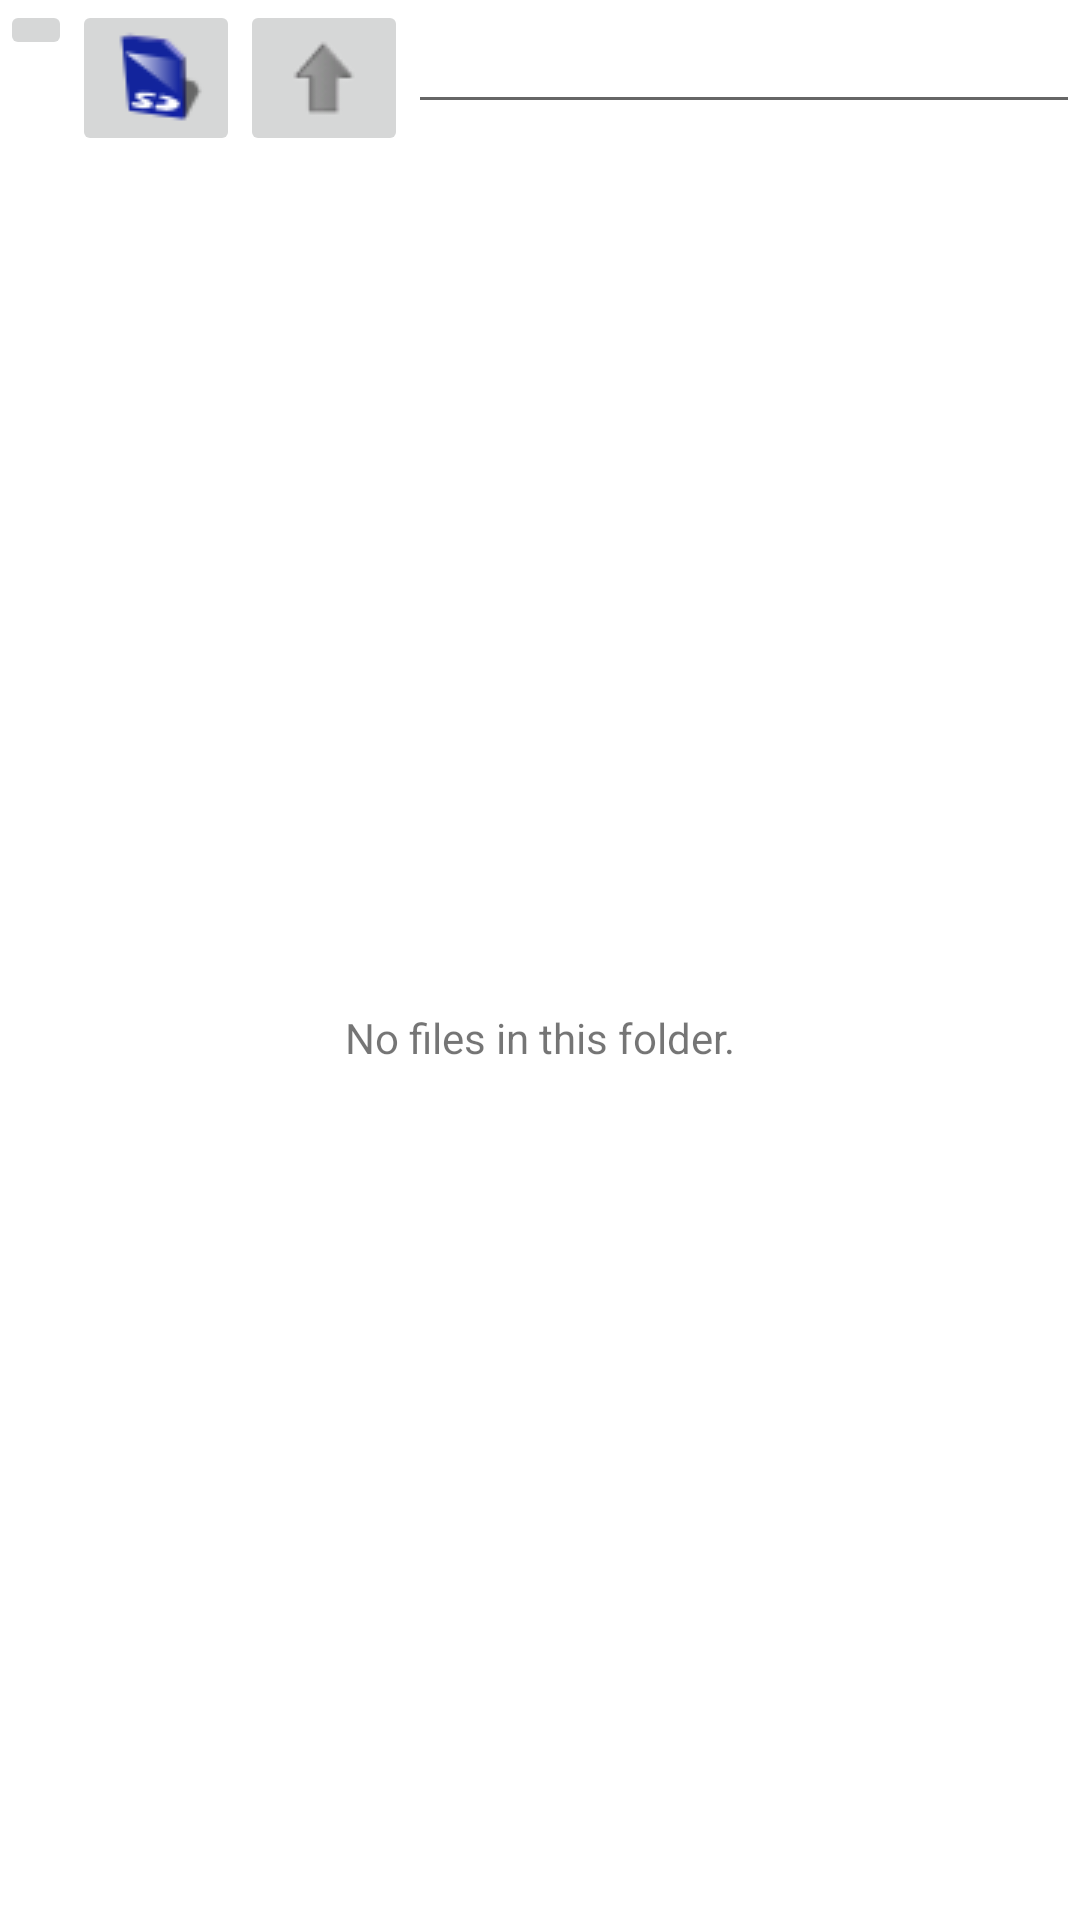

Screen size 1080px×1920px. Icon name, then its box in pixels as (x1, y1, x2, y2):
up dir: (252, 18, 396, 138)
